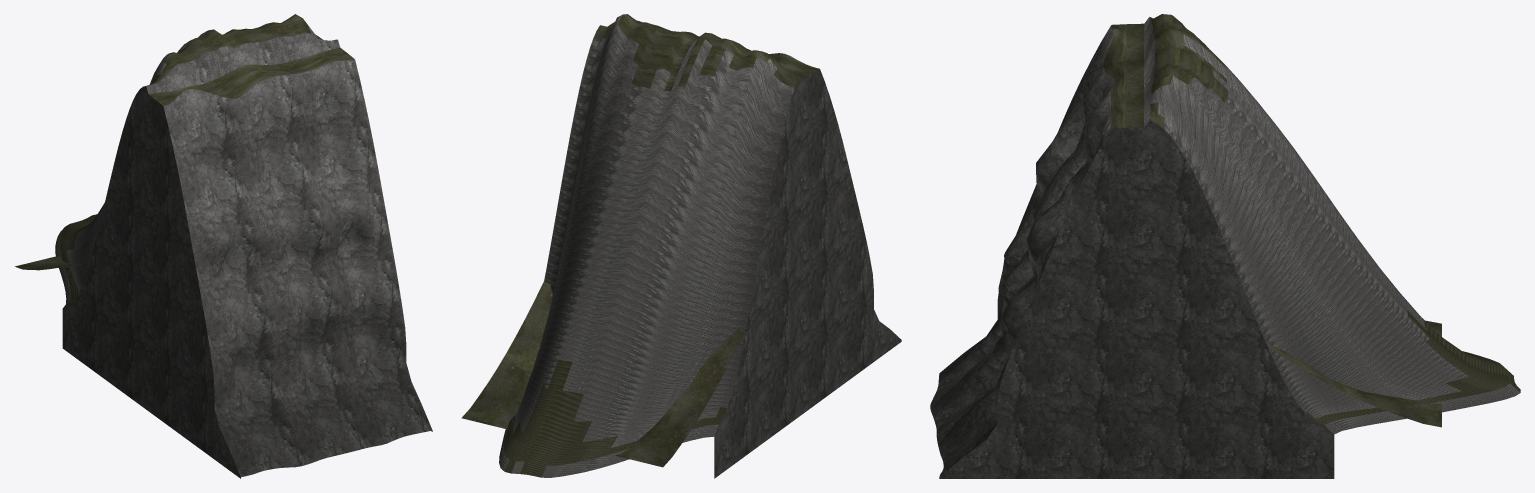
File: seacliff_straight6_h8_v5_summer.glb
The picture shows the model from 3 angles, left to right: view 1: azimuth 30°, elevation 25°; view 2: azimuth 150°, elevation 25°; view 3: azimuth 270°, elevation 25°; orthographic projection. The views are drawn at different scales.
Visible parts, largest first — view 1: seacliff_straight6_h8; view 2: seacliff_straight6_h8; view 3: seacliff_straight6_h8.
Boxes of the visible parts, x1,y1,x2,y2 form: seacliff_straight6_h8: (15,14,432,478); seacliff_straight6_h8: (461,14,901,478); seacliff_straight6_h8: (930,14,1520,478).
Bounding box in the file's own units: 6 × 10.49 × 14.44.
Materials: 2 (2 with a texture image).
